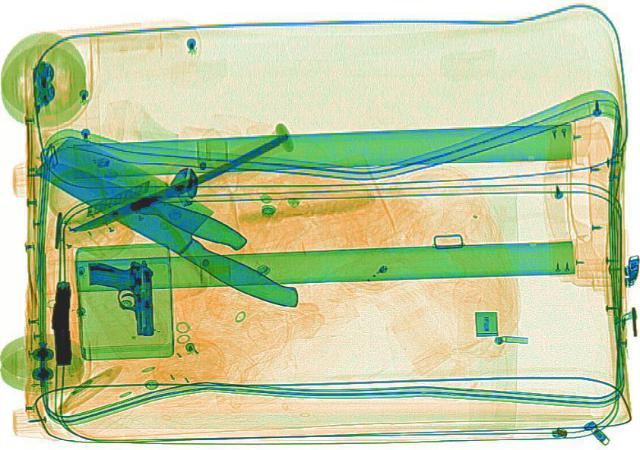Gun: (86, 259, 154, 335), (48, 280, 72, 363)
Knife: (20, 129, 336, 315), (20, 145, 254, 251), (62, 133, 296, 235)
